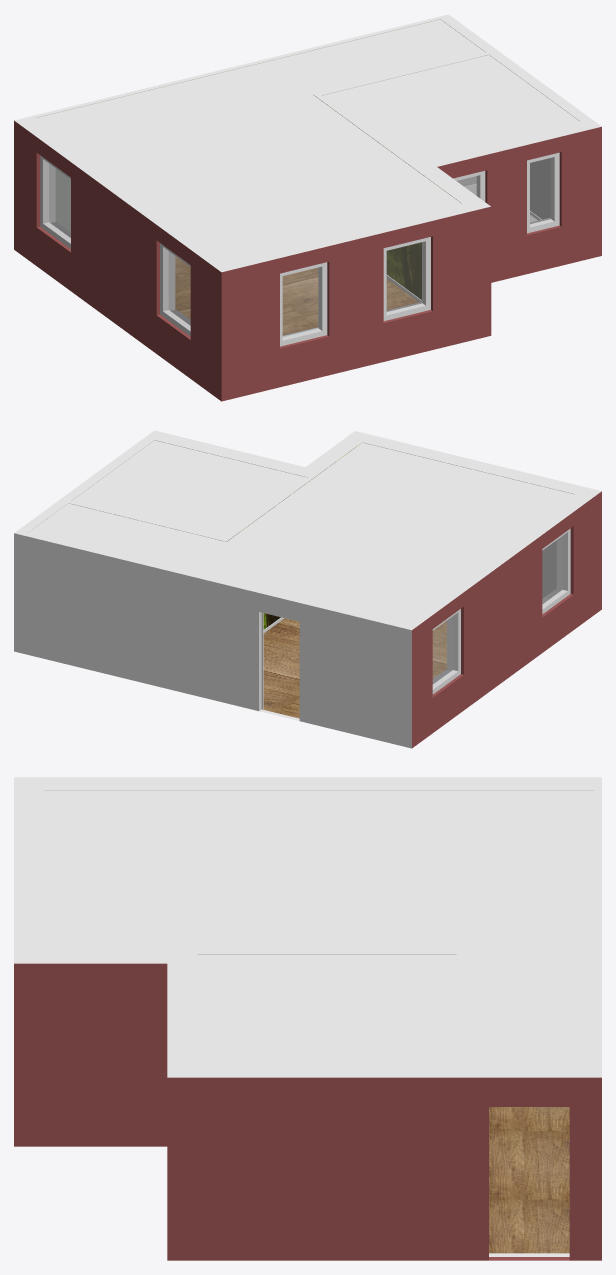
File: Nyckelrummet_Nutid_ver2_13.fbx
3 renders of one model, top to bottom at view 1: azimuth 30°, elevation 25°; view 2: azimuth 150°, elevation 25°; view 3: azimuth 270°, elevation 25°, orthographic. The views are drawn at different scales.
Visible parts, largest first — view 1: Walls_&_Floors, Ceiling, Window 3, Window 4, Window 6, Window 2, Window 1, Window 5; view 2: Walls_&_Floors, Ceiling, Window 2, Window 1; view 3: Walls_&_Floors, Ceiling.
Part boxes in pixels (left/top/right/bottom): Walls_&_Floors: left=14, top=14, right=601, bottom=401; Ceiling: left=36, top=19, right=579, bottom=259; Window 3: left=280, top=262, right=327, bottom=346; Window 4: left=383, top=237, right=430, bottom=320; Window 6: left=527, top=152, right=559, bottom=233; Window 2: left=160, top=243, right=190, bottom=336; Window 1: left=40, top=155, right=70, bottom=248; Window 5: left=453, top=171, right=485, bottom=201; Walls_&_Floors: left=14, top=430, right=601, bottom=748; Ceiling: left=27, top=440, right=574, bottom=623; Window 2: left=542, top=528, right=570, bottom=614; Window 1: left=432, top=609, right=460, bottom=694; Walls_&_Floors: left=14, top=777, right=601, bottom=1260; Ceiling: left=44, top=790, right=593, bottom=1070.
Bounding box in the file's own units: 8.8 × 7.28 × 2.5.
